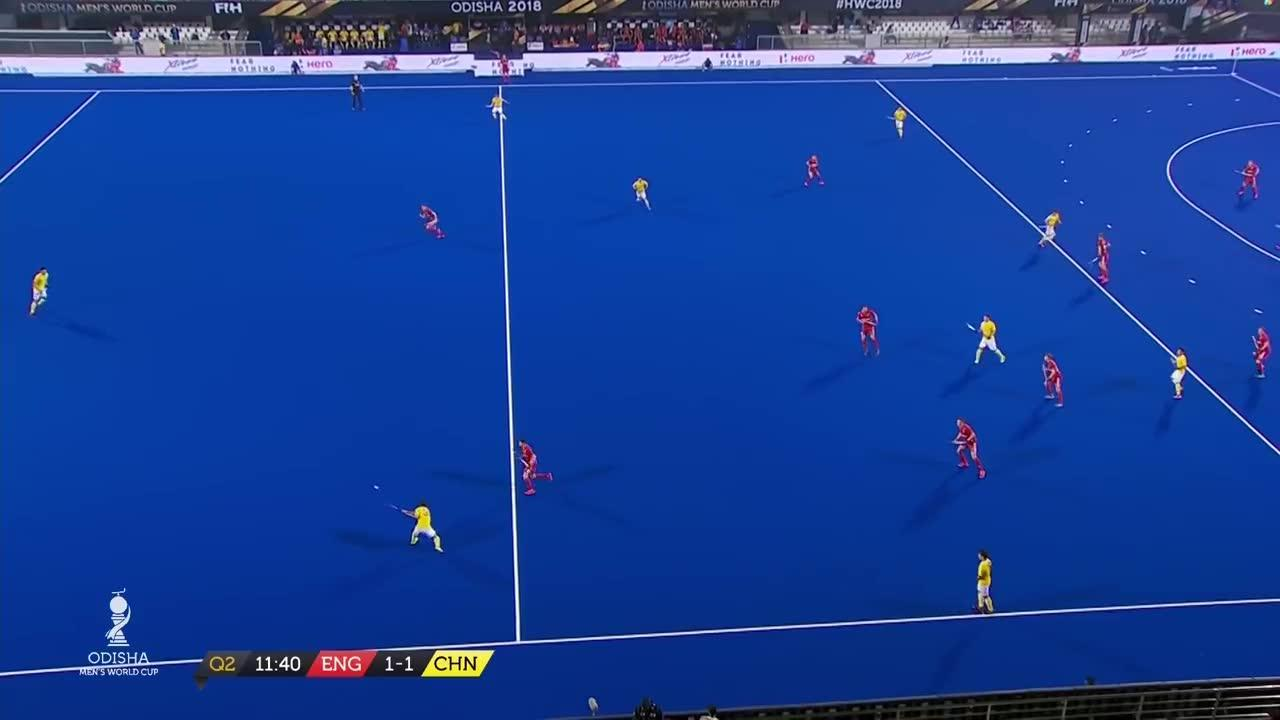ball: (372, 478, 390, 494)
